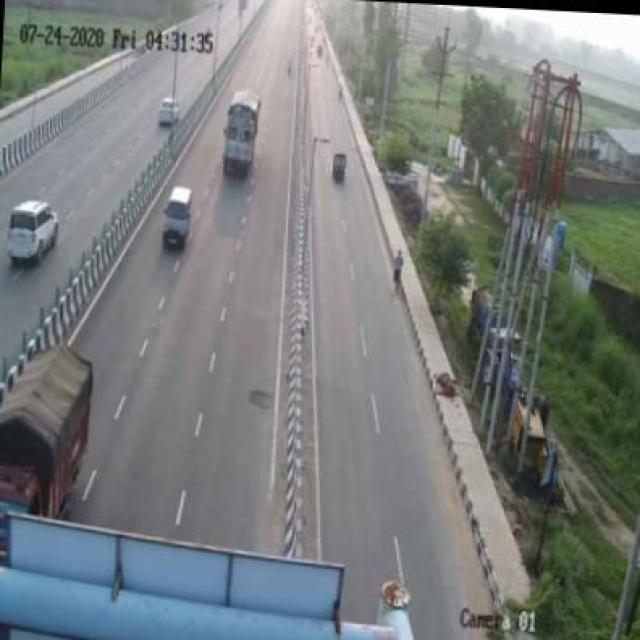car: (160, 178, 202, 257)
